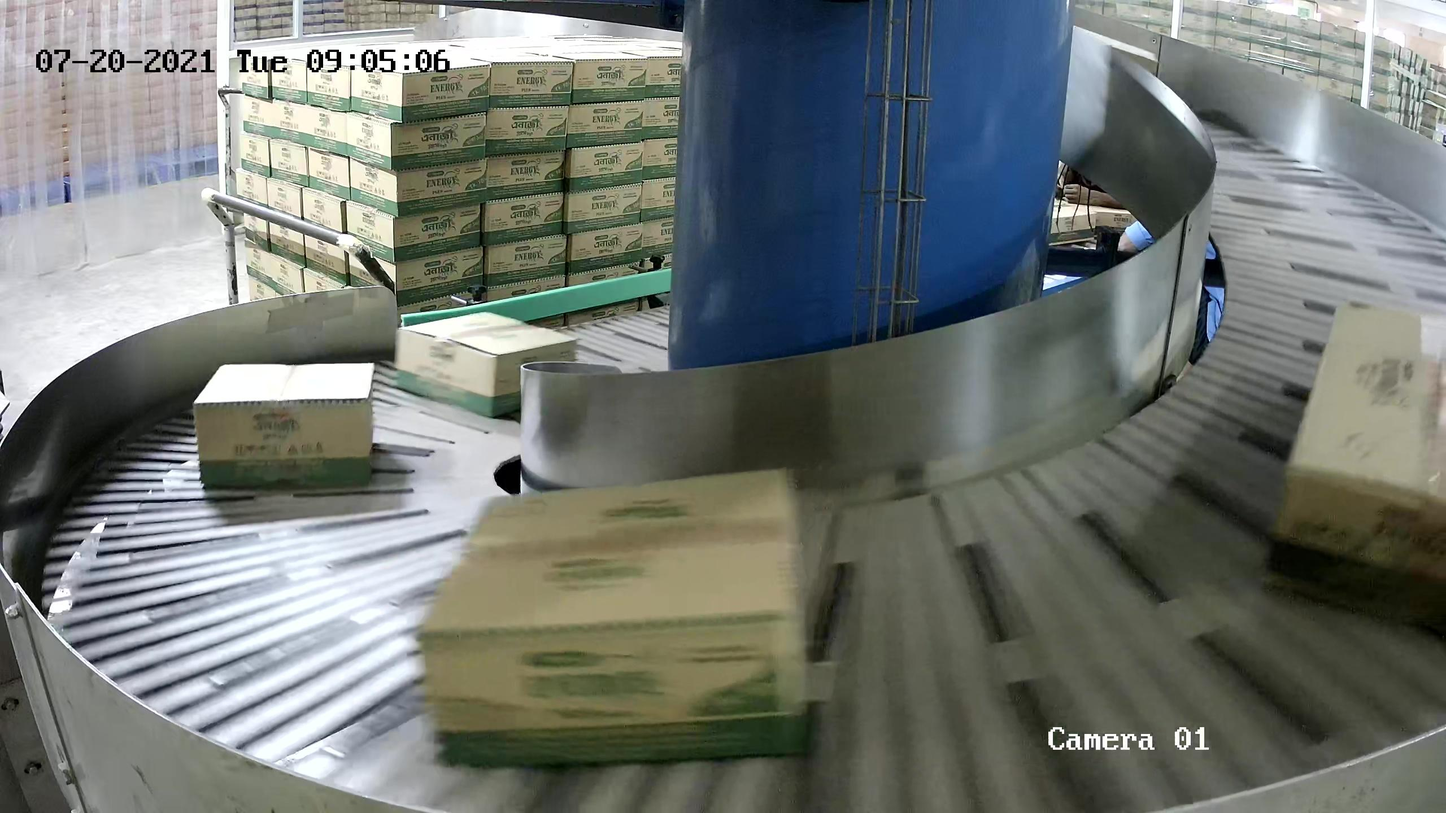Box: (413, 463, 810, 766), (1264, 299, 1446, 622), (192, 362, 376, 488), (392, 310, 577, 418)
